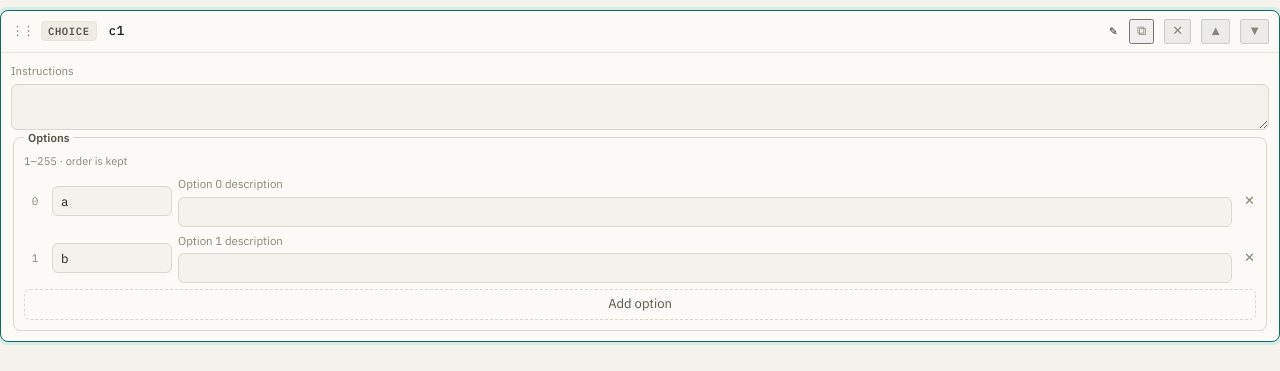
Test case: ChoiceForm › an empty key shows its alert and leaves the store unchanged
Clear the field named "Option 0 key": (112,202) [52,186,172,216]
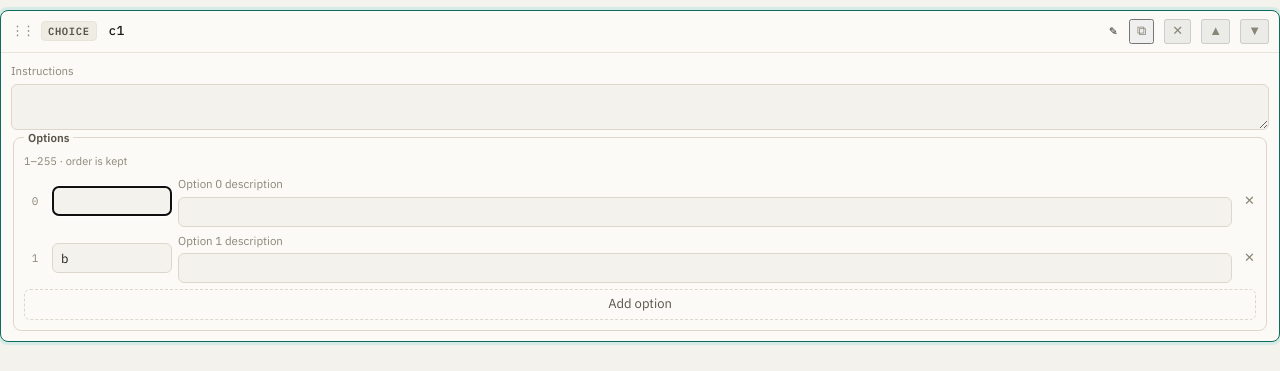
Press Enter
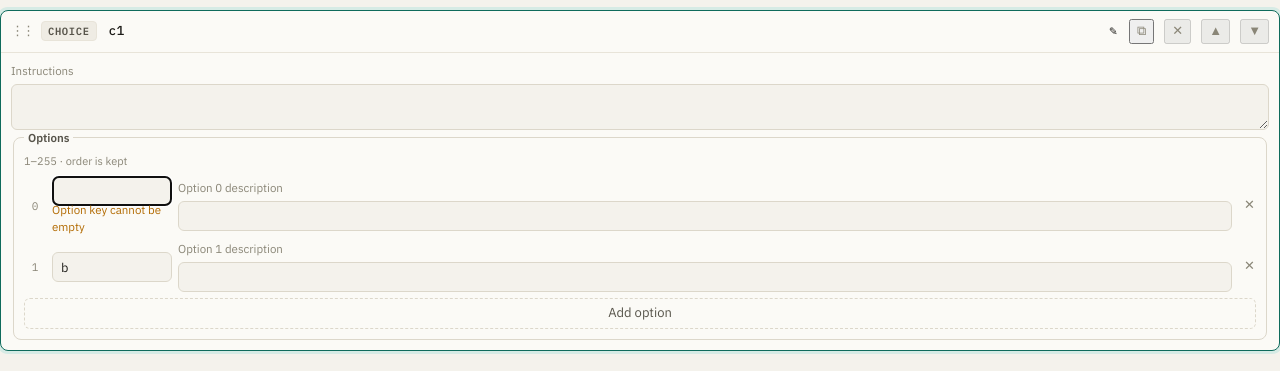
Result: the message reads "Option key cannot be empty" at [52,202,161,234]
